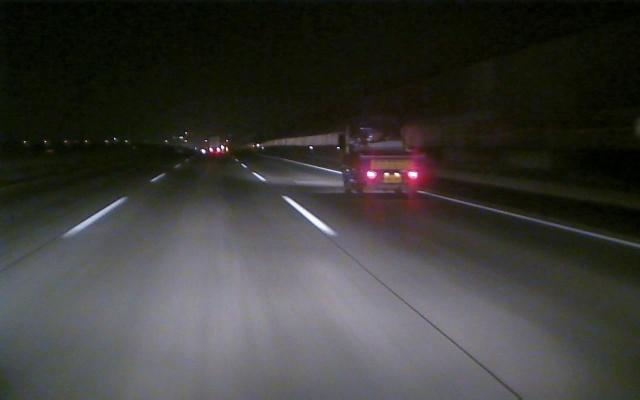lane: (423, 193, 639, 249), (64, 173, 163, 235), (256, 172, 338, 237)
